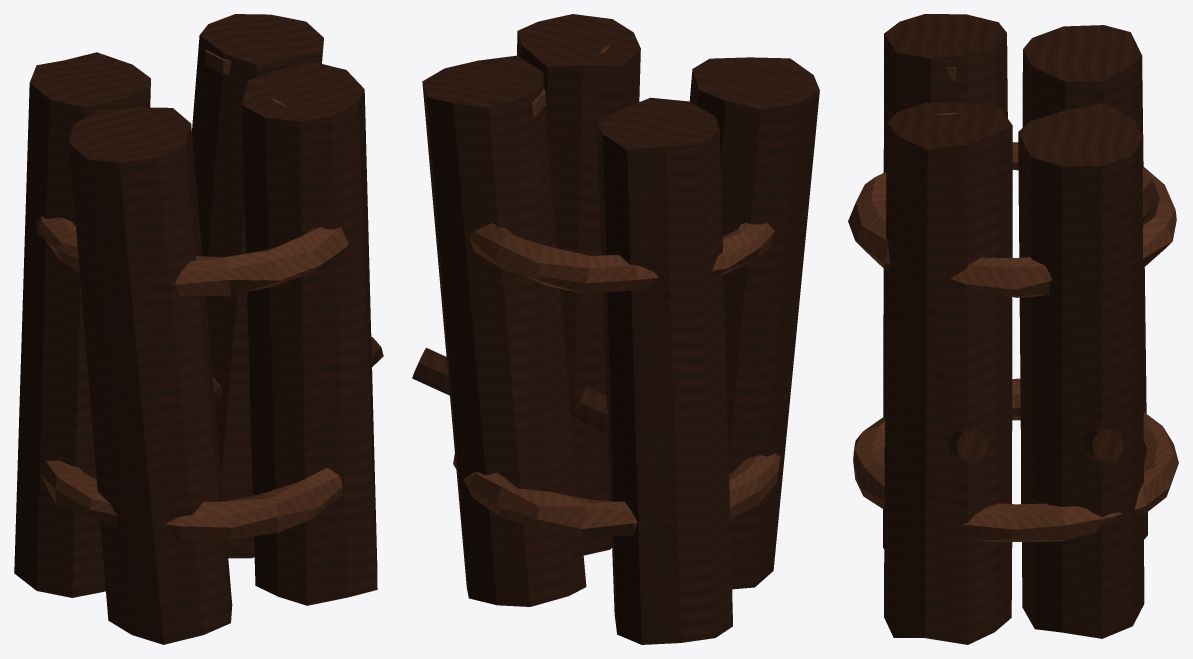
Rendered from underworld-resource-charred-timber.glb.
3 views of the same model, side by side, from view 1: azimuth 30°, elevation 25°; view 2: azimuth 150°, elevation 25°; view 3: azimuth 270°, elevation 25° (orthographic).
Visible parts, largest first — view 1: member-0, member-1, member-2, member-3, binding-0, binding-1; view 2: member-2, member-3, member-0, member-1, binding-1, binding-0, branch-scar-3, branch-scar-2; view 3: member-1, member-3, member-0, member-2, binding-0, binding-1, branch-scar-3, branch-scar-1.
Boxes of the visible parts, x1=… form: member-0: x1=69, y1=107, x2=232, y2=644; member-1: x1=241, y1=61, x2=377, y2=605; member-2: x1=14, y1=52, x2=150, y2=597; member-3: x1=192, y1=14, x2=323, y2=558; binding-0: x1=40, y1=460, x2=342, y2=540; binding-1: x1=35, y1=216, x2=349, y2=296; member-2: x1=596, y1=97, x2=732, y2=644; member-3: x1=422, y1=55, x2=586, y2=606; member-0: x1=689, y1=57, x2=819, y2=589; member-1: x1=517, y1=14, x2=640, y2=555; binding-1: x1=469, y1=222, x2=774, y2=293; binding-0: x1=453, y1=453, x2=780, y2=536; branch-scar-3: x1=412, y1=347, x2=449, y2=395; branch-scar-2: x1=573, y1=387, x2=608, y2=433; member-1: x1=884, y1=102, x2=1012, y2=644; member-3: x1=1018, y1=103, x2=1144, y2=638; member-0: x1=883, y1=14, x2=1012, y2=548; member-2: x1=1021, y1=25, x2=1147, y2=539; binding-0: x1=853, y1=378, x2=1178, y2=541; binding-1: x1=848, y1=142, x2=1176, y2=297; branch-scar-3: x1=1081, y1=427, x2=1123, y2=461; branch-scar-1: x1=948, y1=428, x2=988, y2=461.
Bounding box in the file's own units: 0.2147 × 0.33 × 0.1954.
2 materials, 2 textured.
